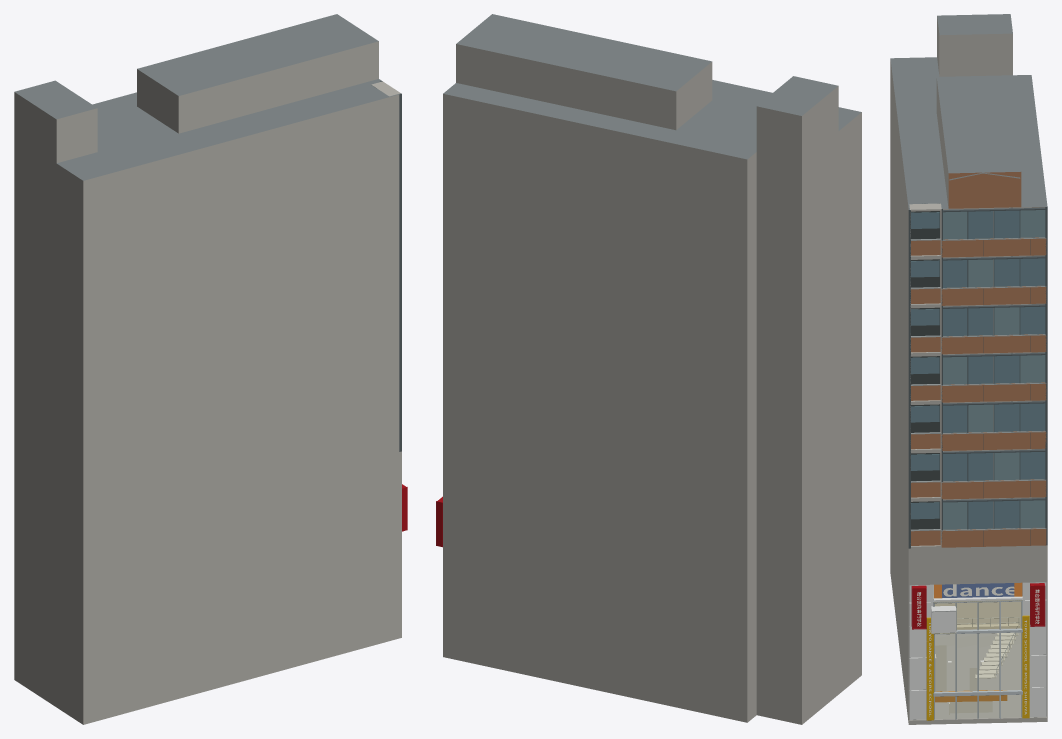
The model's file is d11-da-tokyo790.glb.
3 views of the same model, side by side, from view 1: azimuth 30°, elevation 25°; view 2: azimuth 150°, elevation 25°; view 3: azimuth 270°, elevation 25° (orthographic). The views are drawn at different scales.
Visible parts, largest first — view 1: INFERRED_SHALLOW_DEPTH__Brushed_aluminium; view 2: INFERRED_SHALLOW_DEPTH__Brushed_aluminium; view 3: INFERRED_SHALLOW_DEPTH__Brushed_aluminium, OBSERVED_FACADE__Glass_lower_warm_alpha, OBSERVED_FACADE__Glass_upper_amber_alpha.
Part boxes in pixels (x1,y1,x2,y2): INFERRED_SHALLOW_DEPTH__Brushed_aluminium: (14, 14, 407, 724); INFERRED_SHALLOW_DEPTH__Brushed_aluminium: (436, 14, 861, 724); INFERRED_SHALLOW_DEPTH__Brushed_aluminium: (890, 14, 1047, 724); OBSERVED_FACADE__Glass_lower_warm_alpha: (935, 633, 1020, 718); OBSERVED_FACADE__Glass_upper_amber_alpha: (935, 602, 1020, 629).
Bounding box in the file's own units: 23.05 × 37.86 × 9.69.
5 materials, 1 textured.
